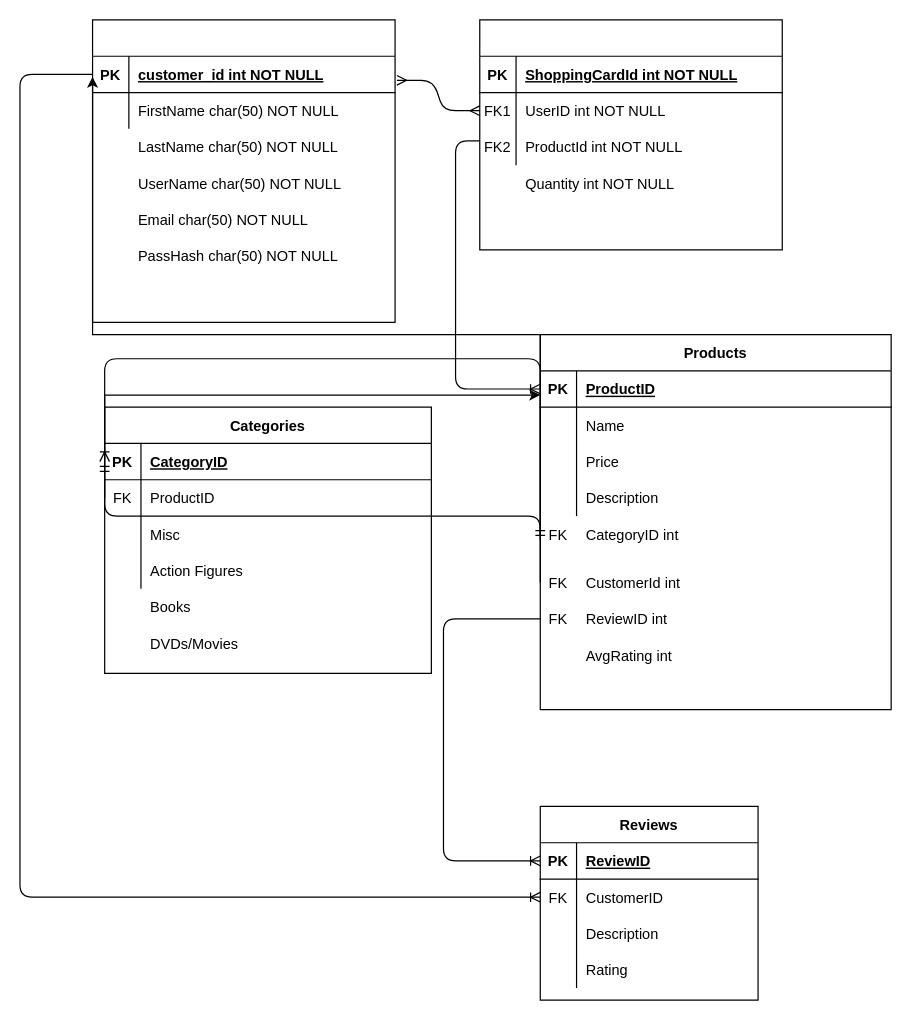
Image size: 911x1020. Some labels were removed from this diagram. The shapes that lost their labels are listed below. From the top down, each one's box as (x1, y1, x2, y2) in pixels, then its label:
(479, 19, 782, 250): Shopping Cart
(91, 19, 395, 322): Customers
